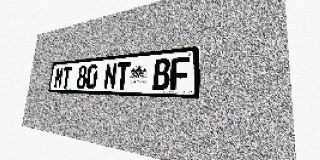0: (85, 64, 98, 89)
8: (76, 65, 88, 89)
B: (152, 58, 171, 90)
F: (170, 56, 190, 91)
M: (53, 67, 64, 88)
N: (103, 62, 117, 89)
T: (115, 61, 130, 89), (61, 66, 72, 88)
